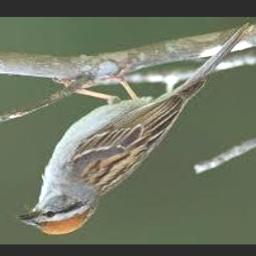Sparrow: (16, 23, 252, 236)
